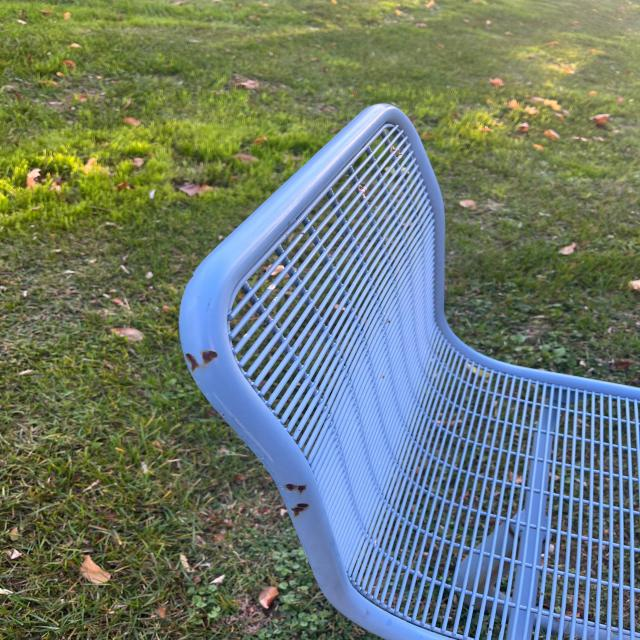Filiform Corrosion: (181, 341, 230, 383), (284, 476, 318, 527)
